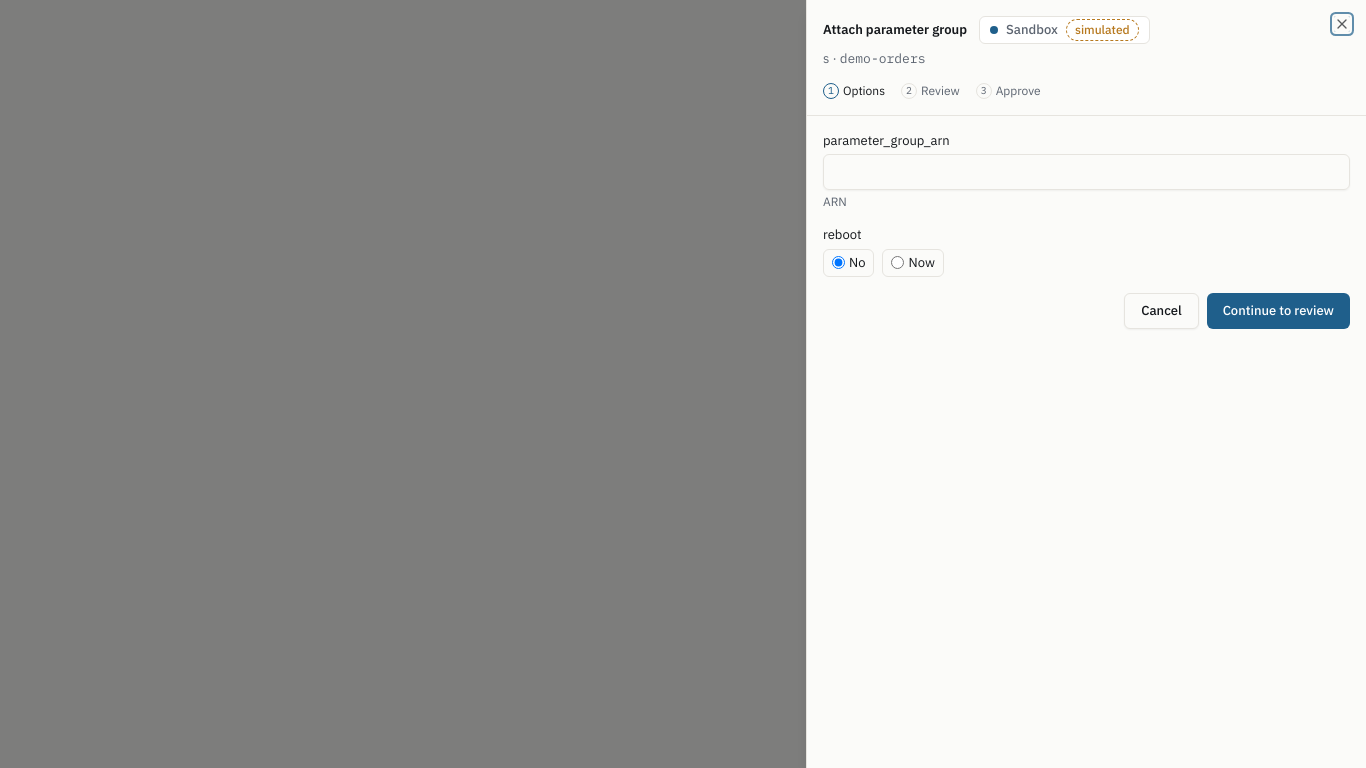
Test case: TaskPanel flows › shows field problems inline and the others in a general list, and stays on the options
Expected: the dialog "Attach parameter group" is shown, x1=806 y1=0 x2=1365 y2=767
Click the button "Continue to review" at (1278, 311), box x1=1207 y1=293 x2=1350 y2=329
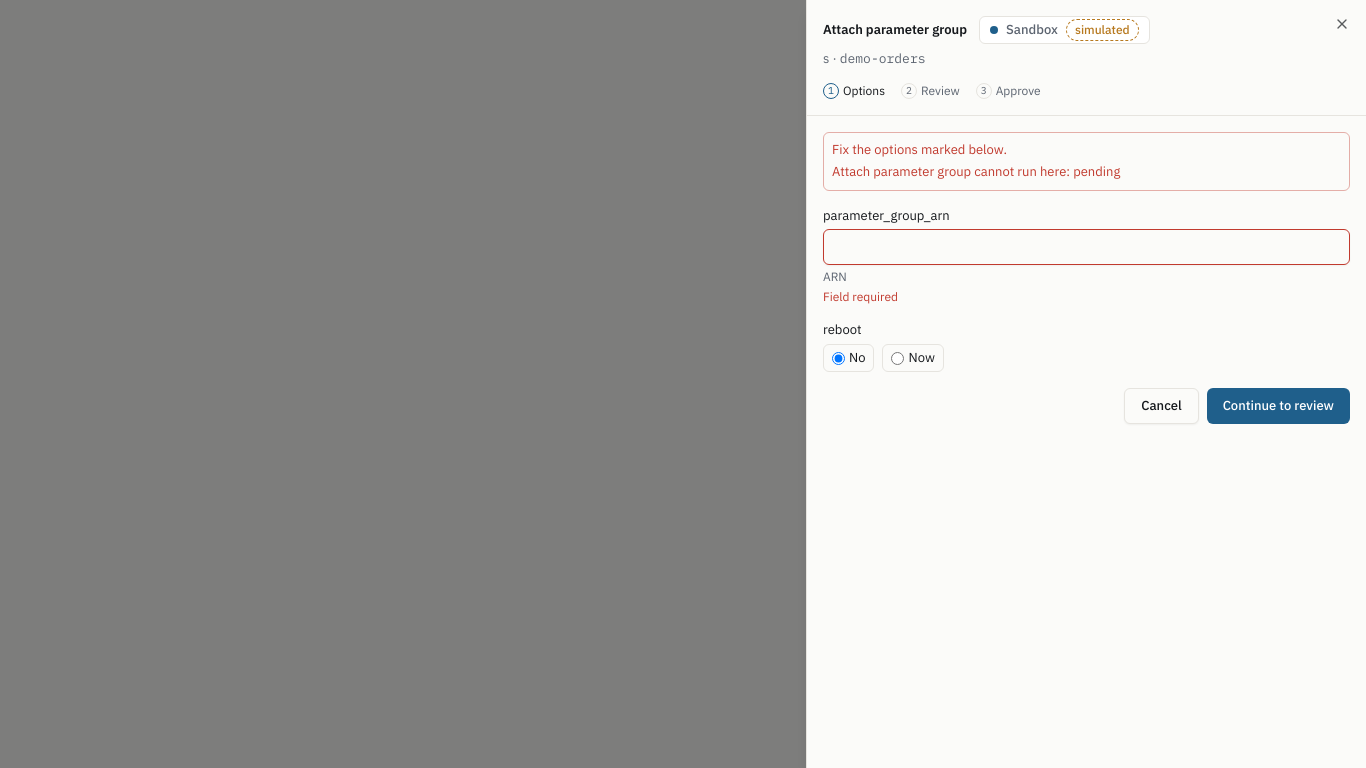
Result: the text "Field required" is shown at x1=823 y1=289 x2=898 y2=304
Result: the list item "Attach parameter group cannot run here: pending" is shown at x1=832 y1=163 x2=1120 y2=180
Result: the text "Fix the options marked below." is shown at x1=832 y1=141 x2=1007 y2=158
